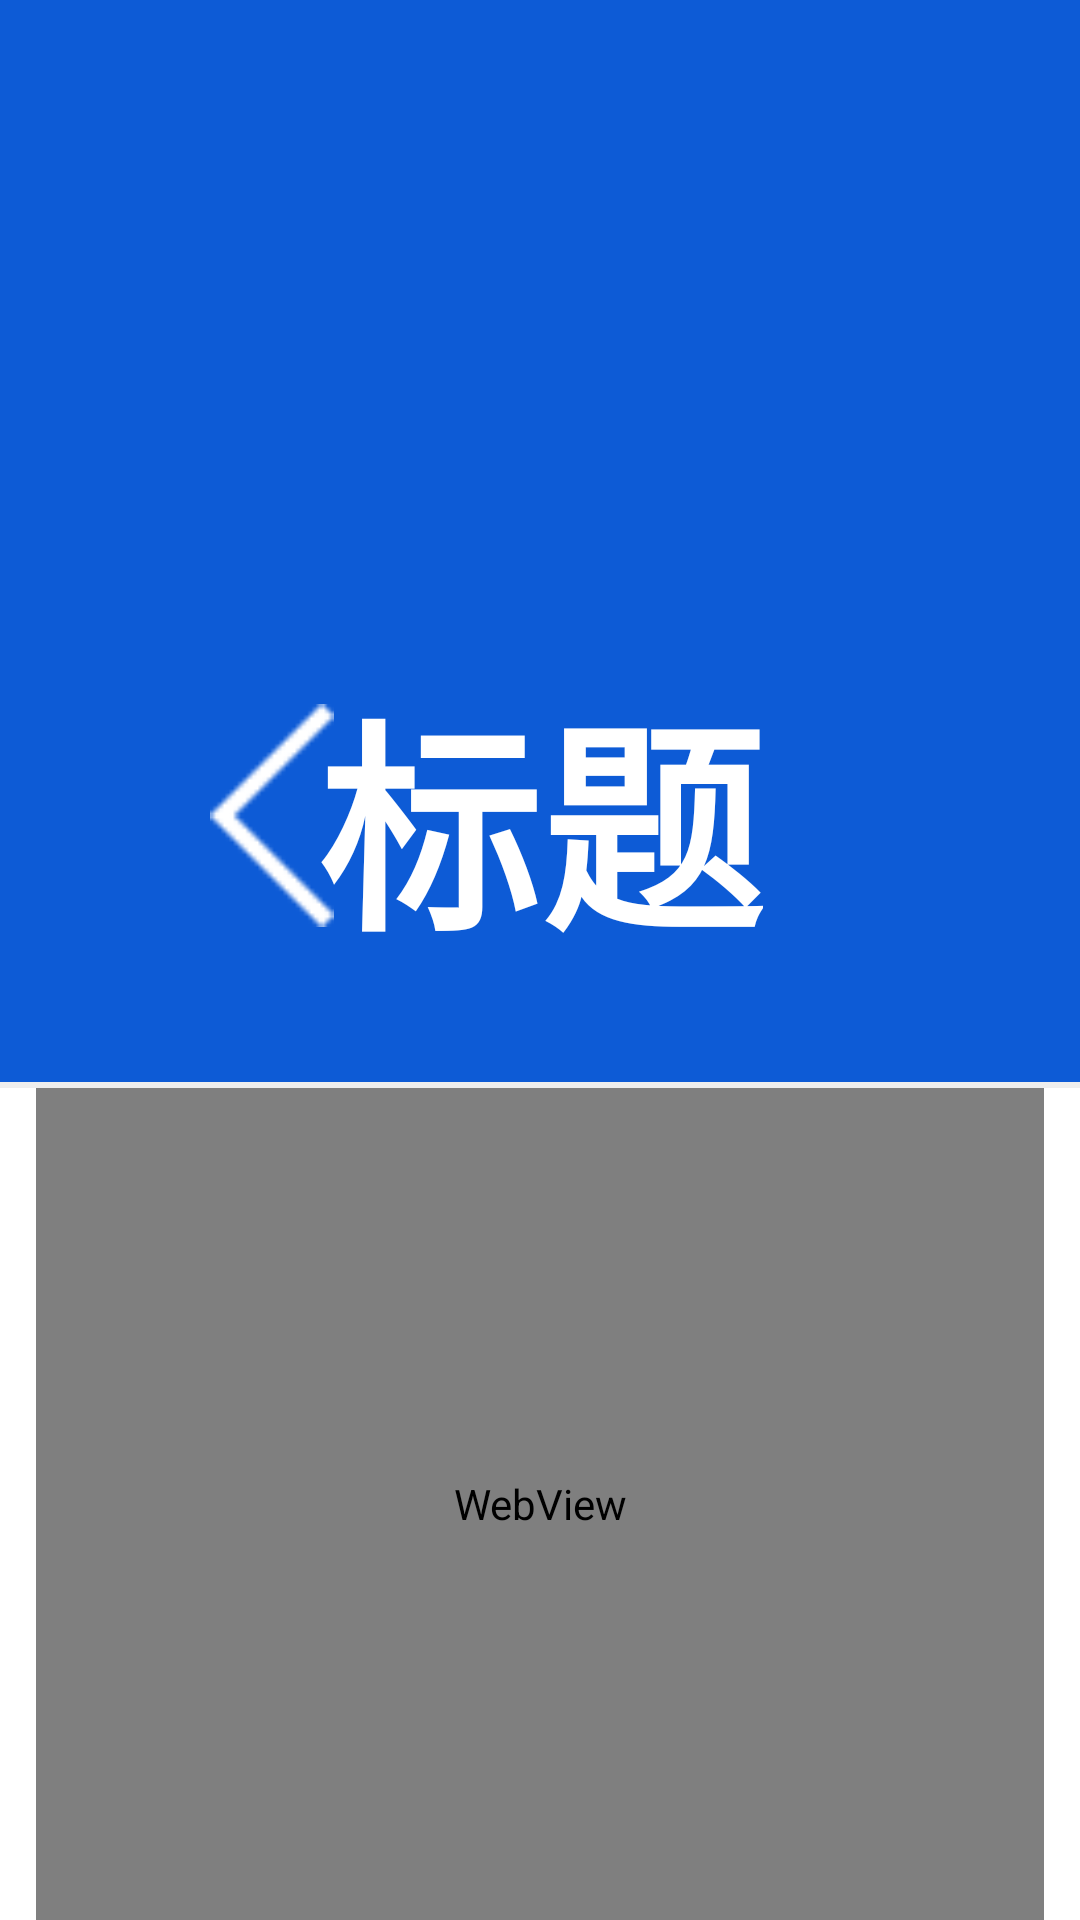

Locate icon controls on the screen. Image size 1080*1920, boxes as [x1, y1, x2, y2].
back: [210, 704, 334, 927]
